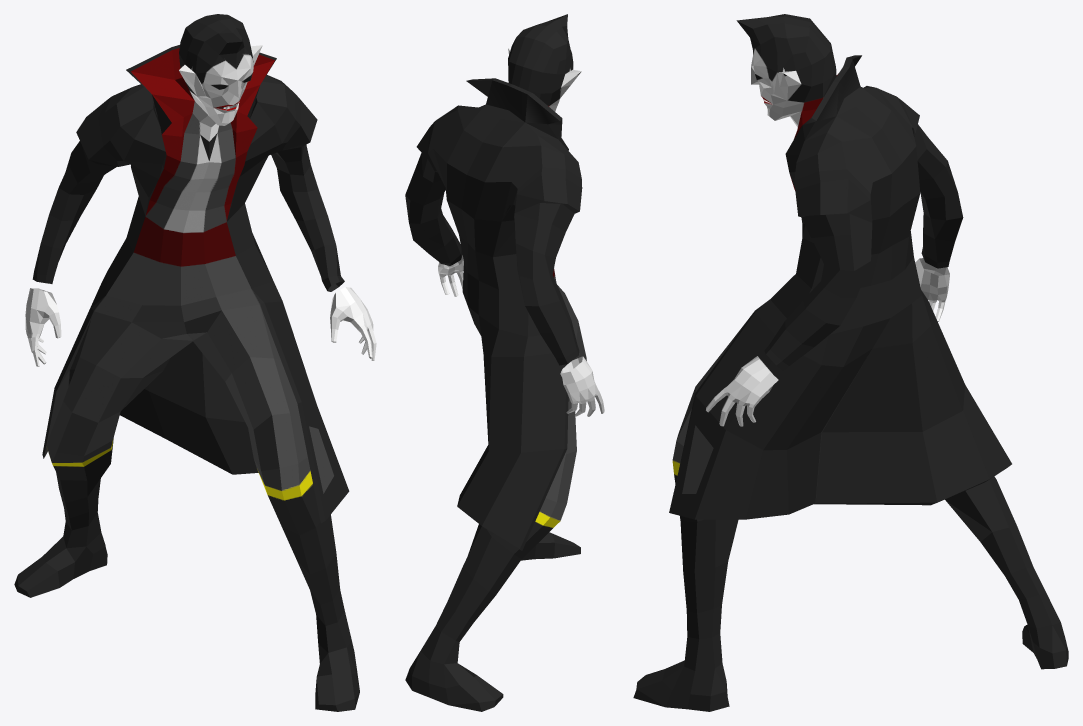
Rendered from VampireIdle(109).obj.
3 renders of one model, left to right at view 1: azimuth 30°, elevation 25°; view 2: azimuth 150°, elevation 25°; view 3: azimuth 270°, elevation 25°, orthographic. The views are drawn at different scales.
Parts seen in each view (by area): view 1: Plane002; view 2: Plane002; view 3: Plane002.
Part boxes in pixels (x1=…): Plane002: x1=14, y1=14, x2=376, y2=711; Plane002: x1=405, y1=14, x2=604, y2=711; Plane002: x1=633, y1=14, x2=1068, y2=711.
Bounding box in the file's own units: 128 × 305 × 185.
